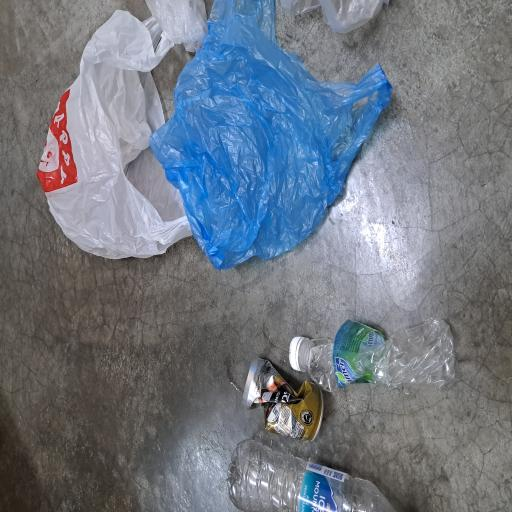can: (58, 327, 114, 427)
plastic bag: (183, 209, 384, 506), (188, 57, 376, 271)
plastic bottle: (0, 302, 54, 512), (94, 403, 148, 512)
